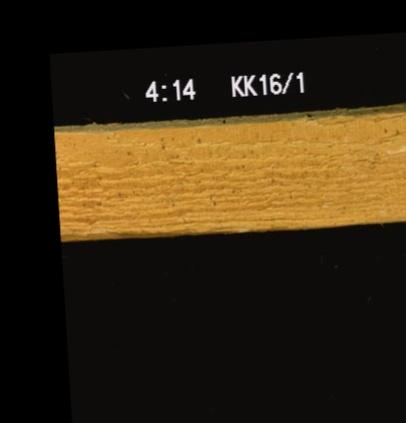wave: (60, 226, 195, 238)
